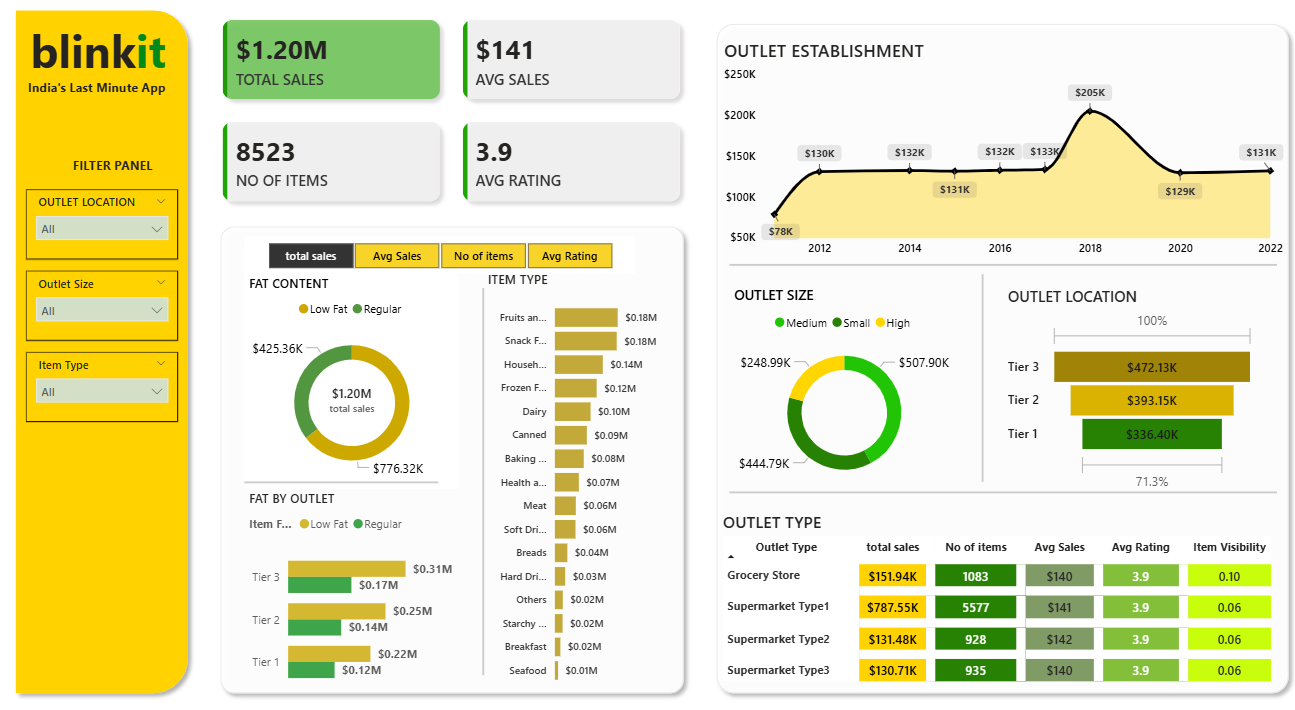

This screenshot's page, from the dashboard's own definition file:
{"tool":"powerbi","page":{"name":"Page 1","canvas":[1400,800],"ordinal":0},"visuals":[{"type":"shape","box":[16.5,25.5,203,750.4],"z":0},{"type":"textbox","box":[36,40.5,163.6,78],"z":1000},{"type":"textbox","box":[25.5,103.6,174.1,28.5],"z":2000},{"type":"cardVisual","fields":{"Data":["BlinkIT Grocery Data.total sales","BlinkIT Grocery Data.Avg Sales","BlinkIT Grocery Data.No of items","BlinkIT Grocery Data.Avg Rating"]},"box":[218.5,16.1,549.6,252],"z":3000},{"type":"shape","box":[235.9,257.4,514.7,518.8],"z":4000},{"type":"donutChart","title":"FAT CONTENT","fields":{"Y":["BlinkIT Grocery Data.total sales"],"Category":["BlinkIT Grocery Data.Item Fat Content"]},"box":[270.8,317.7,230.6,230.6],"z":5000},{"type":"slicer","fields":{"Values":["Metrics.Metrics"]},"box":[270.8,277.5,418.2,40.2],"z":6000},{"type":"cardVisual","fields":{"Data":["BlinkIT Grocery Data.total sales"]},"box":[332.4,416.9,107.2,69.7],"z":7000},{"type":"clusteredBarChart","title":"FAT BY OUTLET","fields":{"Y":["BlinkIT Grocery Data.total sales"],"Series":["BlinkIT Grocery Data.Item Fat Content"],"Category":["BlinkIT Grocery Data.Outlet Location Type"]},"box":[270.8,548.3,256,227.9],"z":8000},{"type":"shape","box":[270.8,533.5,207.8,14.7],"z":9000},{"type":"barChart","title":"ITEM TYPE","fields":{"Y":["BlinkIT Grocery Data.total sales"],"Category":["BlinkIT Grocery Data.Item Type"]},"box":[526.8,313.7,214.5,454.4],"z":10000},{"type":"shape","box":[516.1,332.4,21.4,415.6],"z":11000},{"type":"shape","box":[768.1,40.2,631.4,735.9],"z":12000},{"type":"lineChart","title":"OUTLET ESTABLISHMENT","fields":{"Category":["BlinkIT Grocery Data.Outlet Establishment Year"],"Y":["BlinkIT Grocery Data.total sales"]},"box":[780.2,64.3,609.9,244],"z":13000},{"type":"shape","box":[790.9,301.6,587.1,12.1],"z":14000},{"type":"donutChart","title":"OUTLET  SIZE","fields":{"Y":["BlinkIT Grocery Data.total sales"],"Category":["BlinkIT Grocery Data.Outlet Size"]},"box":[790.9,329.8,246.7,225.2],"z":15000},{"type":"shape","box":[1056.3,317.7,12.1,222.5],"z":16000},{"type":"funnel","title":"OUTLET LOCATION","fields":{"Y":["BlinkIT Grocery Data.total sales"],"Category":["BlinkIT Grocery Data.Outlet Location Type"]},"box":[1084.5,329.8,274.8,225.2],"z":17000},{"type":"shape","box":[790.9,548.3,587.1,6.7],"z":18000},{"type":"pivotTable","title":"OUTLET TYPE","fields":{"Rows":["BlinkIT Grocery Data.Outlet Type"],"Values":["BlinkIT Grocery Data.total sales","BlinkIT Grocery Data.No of items","BlinkIT Grocery Data.Avg Sales","BlinkIT Grocery Data.Avg Rating","Avg(BlinkIT Grocery Data.Item Visibility)"]},"box":[778.8,571,620.6,197.1],"z":19000},{"type":"slicer","fields":{"Values":["BlinkIT Grocery Data.Outlet Location Type"]},"box":[36.2,226.5,163.5,75.1],"z":20000},{"type":"slicer","fields":{"Values":["BlinkIT Grocery Data.Outlet Size"]},"box":[36.2,313.7,163.5,75.1],"z":21000},{"type":"slicer","fields":{"Values":["BlinkIT Grocery Data.Item Type"]},"box":[36.2,400.8,163.5,75.1],"z":22000},{"type":"textbox","box":[81.8,186.3,118,28.2],"z":23000}]}

Visuals, with their boxes on the page's 1400x800 design canvas (x1, y1, x2, y2). These are canvas units, not pixel positions in the 1295x710 screenshot, which may show the page scaled, cropped or inside an application window:
shape: x1=16 y1=26 x2=220 y2=776
textbox: x1=36 y1=40 x2=200 y2=118
textbox: x1=26 y1=104 x2=200 y2=132
cardVisual - BlinkIT Grocery Data.total sales x BlinkIT Grocery Data.Avg Sales: x1=218 y1=16 x2=768 y2=268
shape: x1=236 y1=257 x2=751 y2=776
"FAT CONTENT" donutChart: x1=271 y1=318 x2=501 y2=548
slicer - Metrics.Metrics: x1=271 y1=278 x2=689 y2=318
cardVisual - BlinkIT Grocery Data.total sales: x1=332 y1=417 x2=440 y2=487
"FAT BY OUTLET" clusteredBarChart: x1=271 y1=548 x2=527 y2=776
shape: x1=271 y1=534 x2=479 y2=548
"ITEM TYPE" barChart: x1=527 y1=314 x2=741 y2=768
shape: x1=516 y1=332 x2=538 y2=748
shape: x1=768 y1=40 x2=1400 y2=776
"OUTLET ESTABLISHMENT" lineChart: x1=780 y1=64 x2=1390 y2=308
shape: x1=791 y1=302 x2=1378 y2=314
"OUTLET  SIZE" donutChart: x1=791 y1=330 x2=1038 y2=555
shape: x1=1056 y1=318 x2=1068 y2=540
"OUTLET LOCATION" funnel: x1=1084 y1=330 x2=1359 y2=555
shape: x1=791 y1=548 x2=1378 y2=555
"OUTLET TYPE" pivotTable: x1=779 y1=571 x2=1399 y2=768
slicer - BlinkIT Grocery Data.Outlet Location Type: x1=36 y1=226 x2=200 y2=302
slicer - BlinkIT Grocery Data.Outlet Size: x1=36 y1=314 x2=200 y2=389
slicer - BlinkIT Grocery Data.Item Type: x1=36 y1=401 x2=200 y2=476
textbox: x1=82 y1=186 x2=200 y2=214
